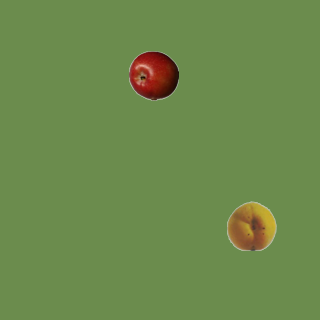Apple Braeburn: (128, 50, 178, 100)
Peach 2: (226, 200, 276, 250)
